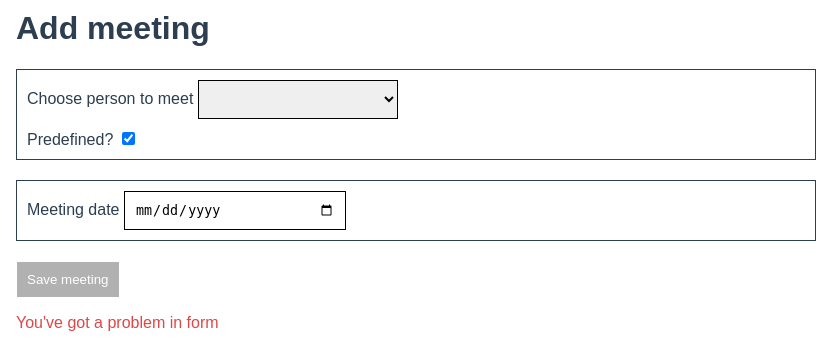
Scenario: views/AddMeeting.vue › predefined checkbox toggle fields and clear values
This screenshot has width=833, height=348.
Click the checkbox with test id "predefinedCheckbox": x=128, y=138 [122,132,135,145]
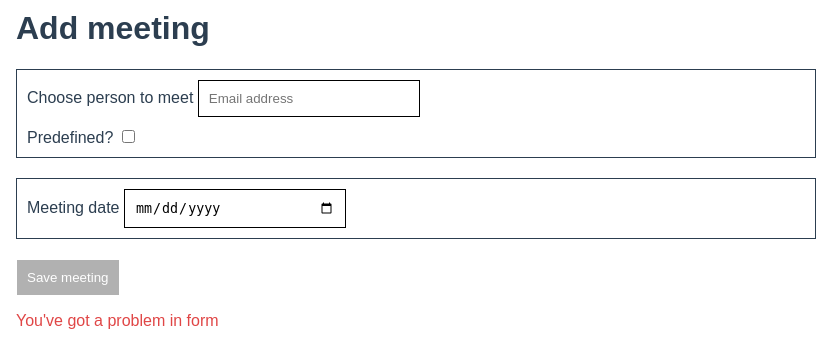
In the field with test id "emailInput": x=309, y=98 [198,80,420,117], type "example value"
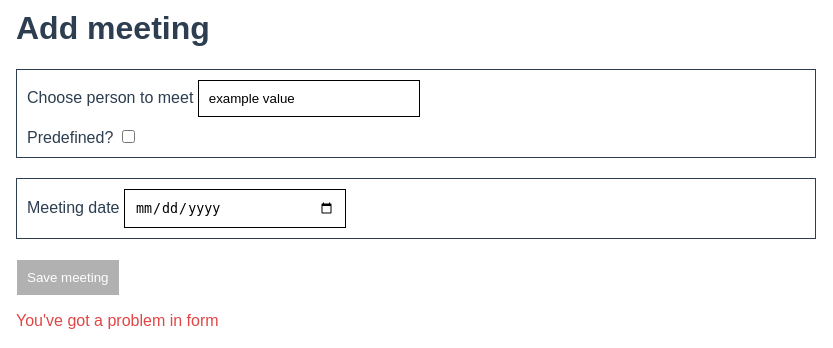
Click the checkbox with test id "predefinedCheckbox": x=128, y=136 [122,130,135,143]
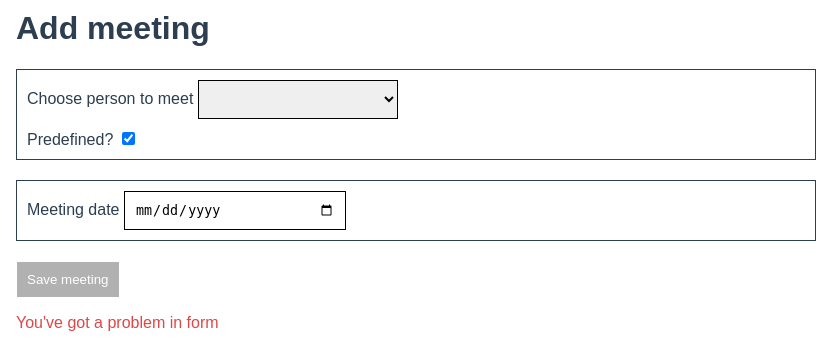
Now the dropdown with test id "emailInput" is shown, box [198,80,398,119]
